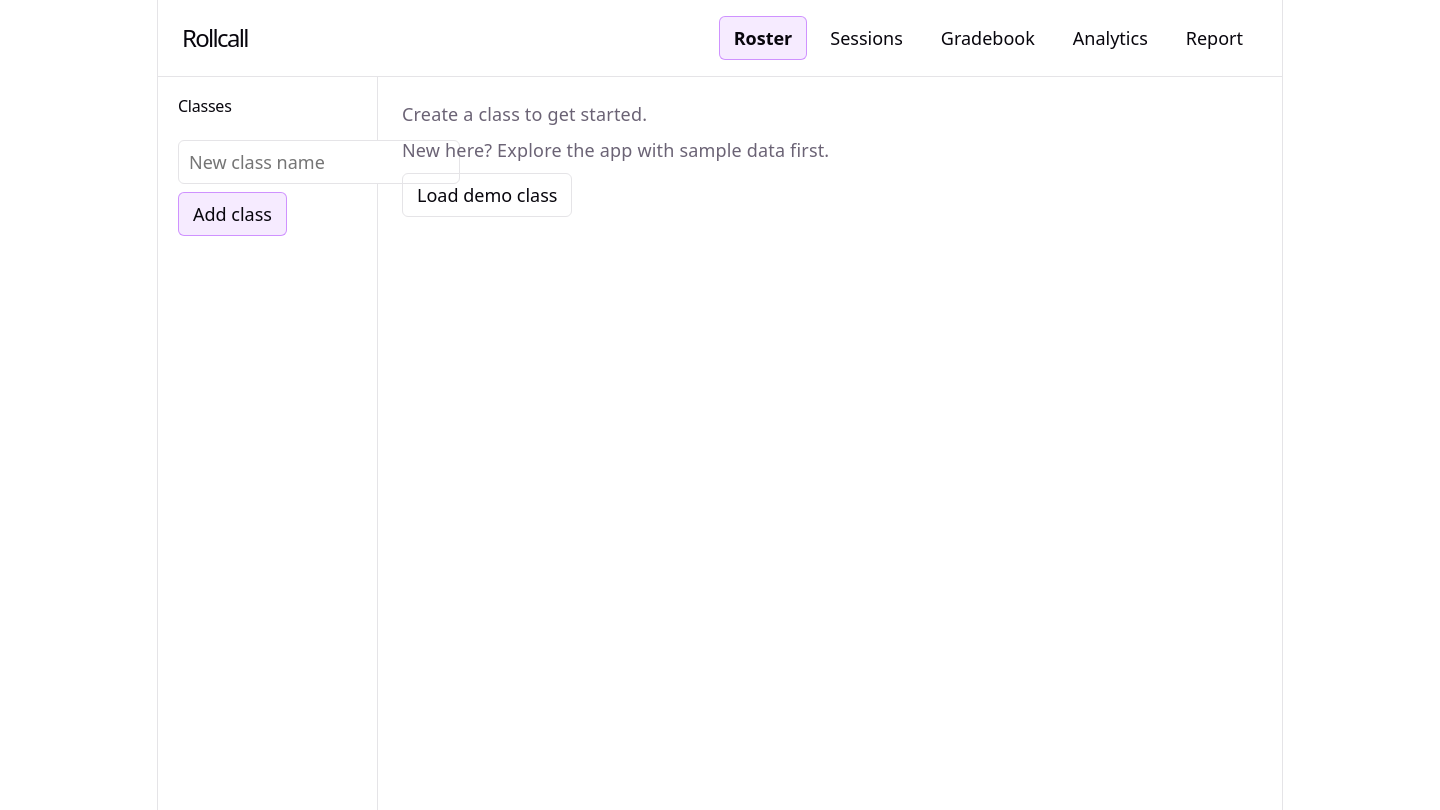
Scenario: App › adds a participant to the selected class
Type "Morning Cohort" into the field labelled "New class name" at (319, 162), box [178, 140, 460, 184]
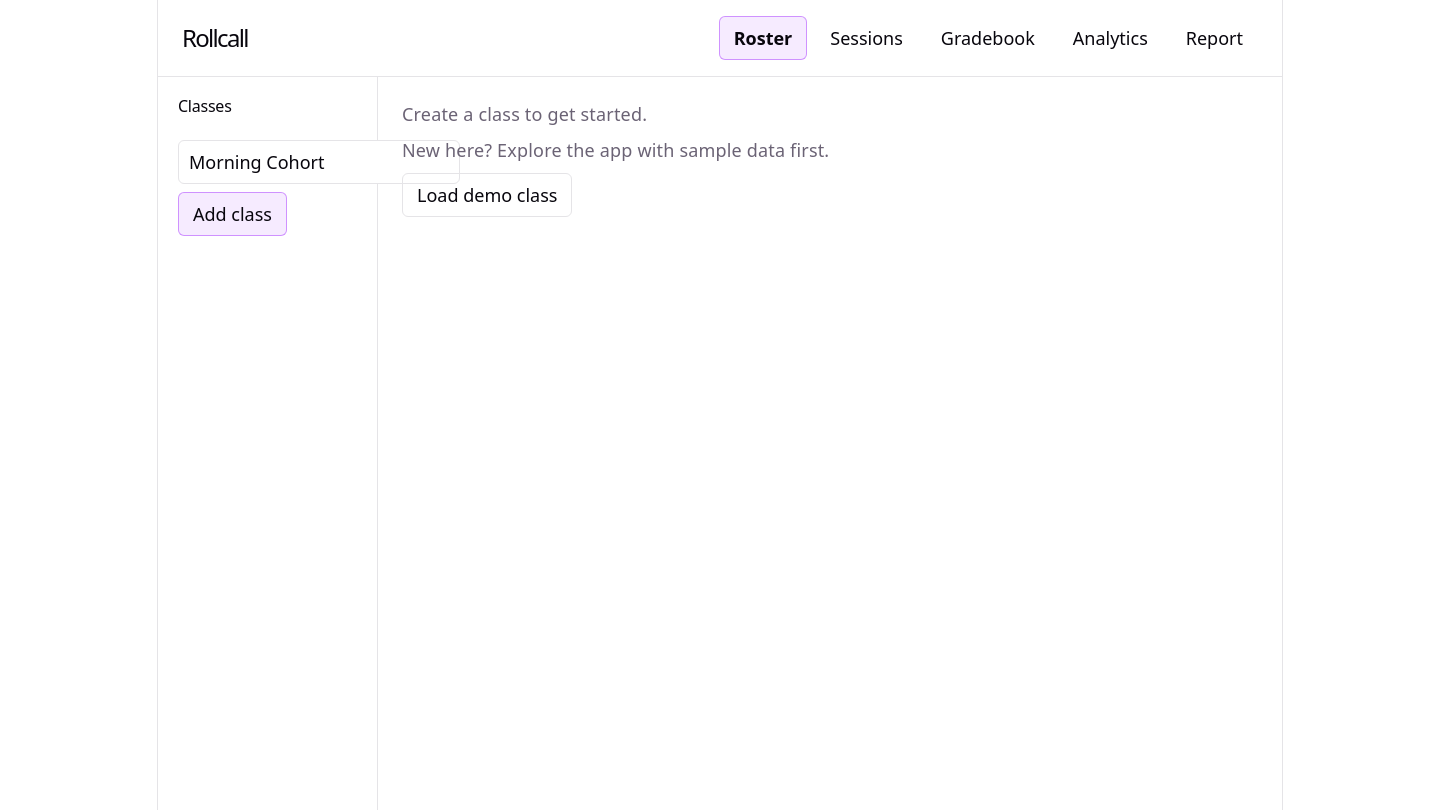
Click the button "Add class" at (232, 214), box [178, 192, 287, 236]
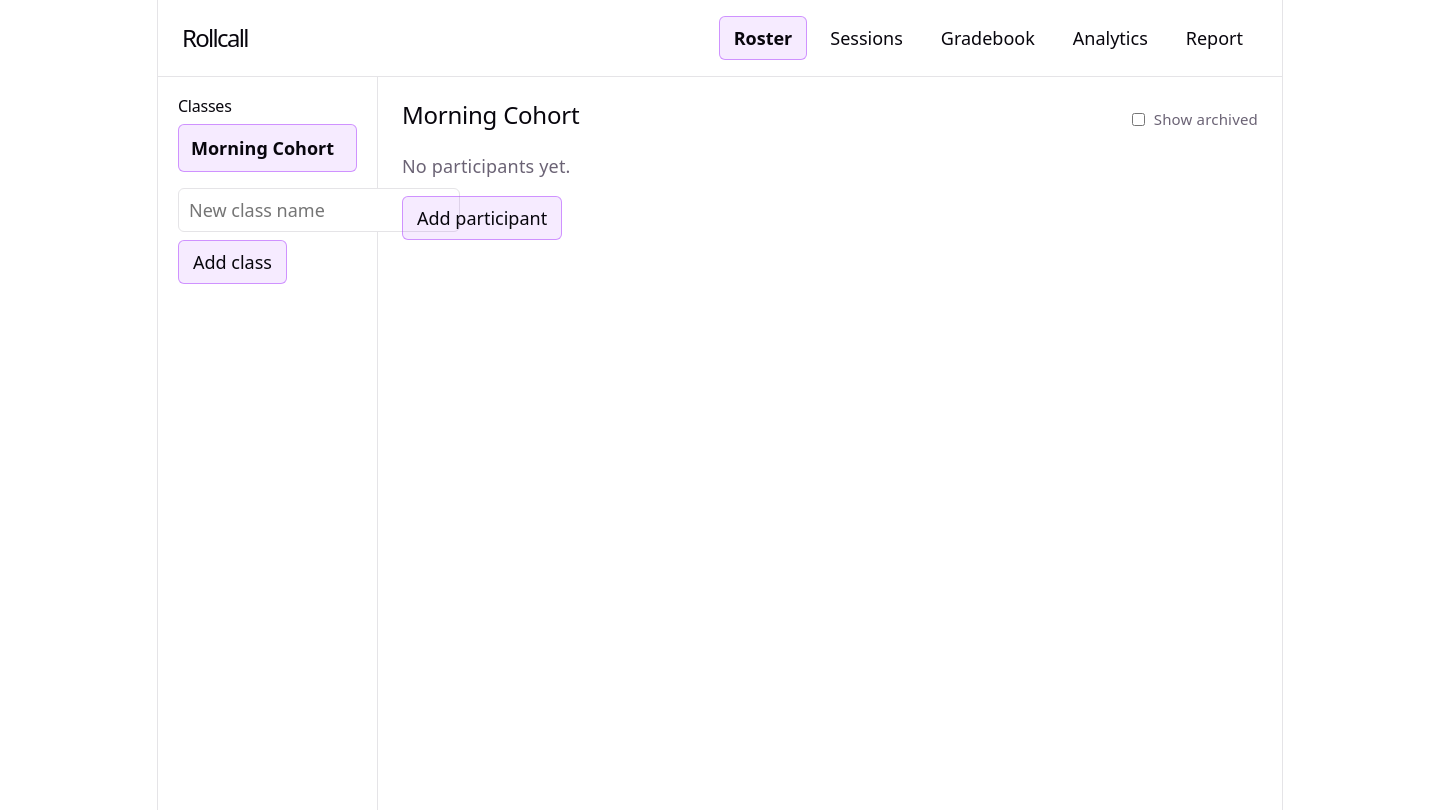
Click the button "Add participant" at (482, 218), box [402, 196, 562, 240]
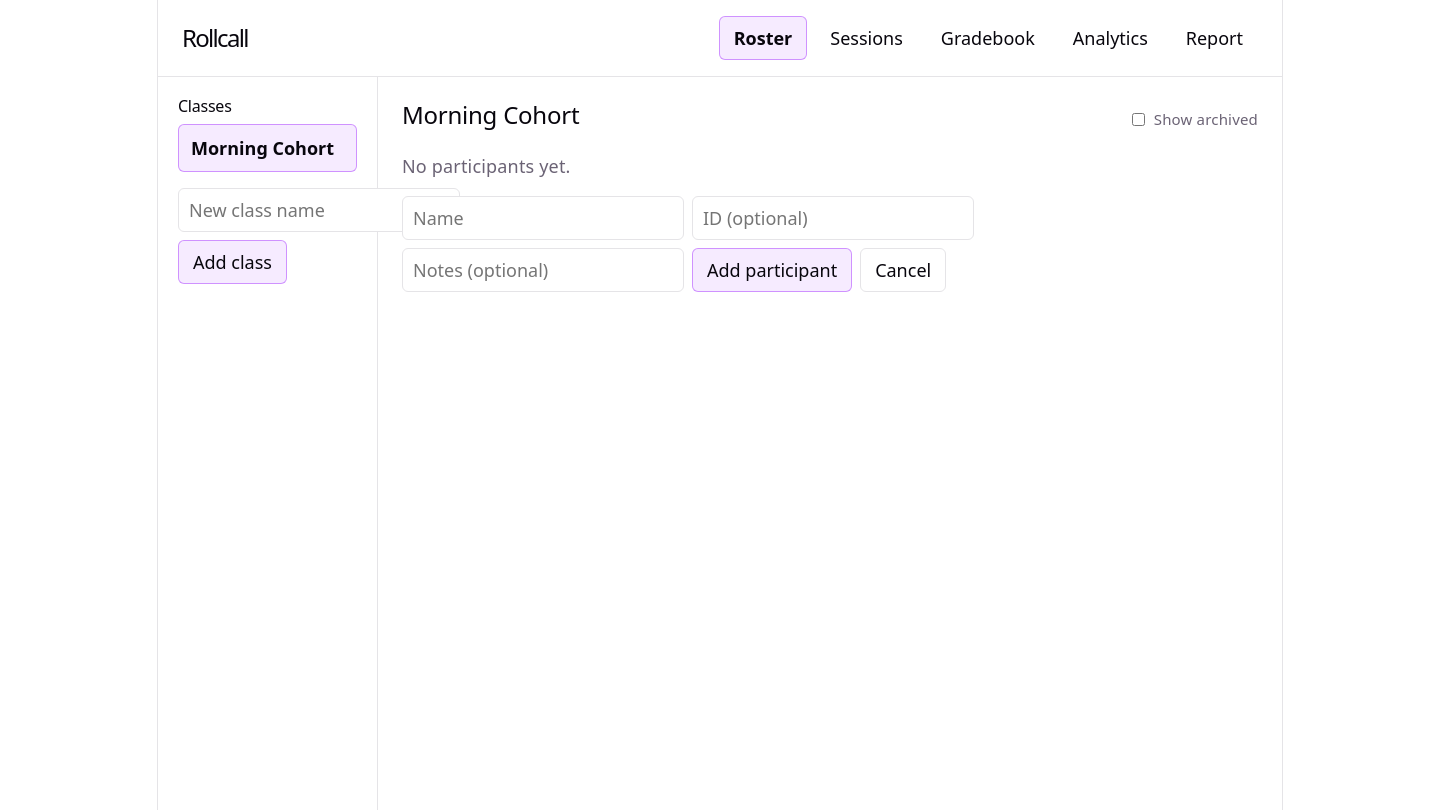
Type "Jane Doe" into the field named "Participant name" at (543, 218), box [402, 196, 684, 240]
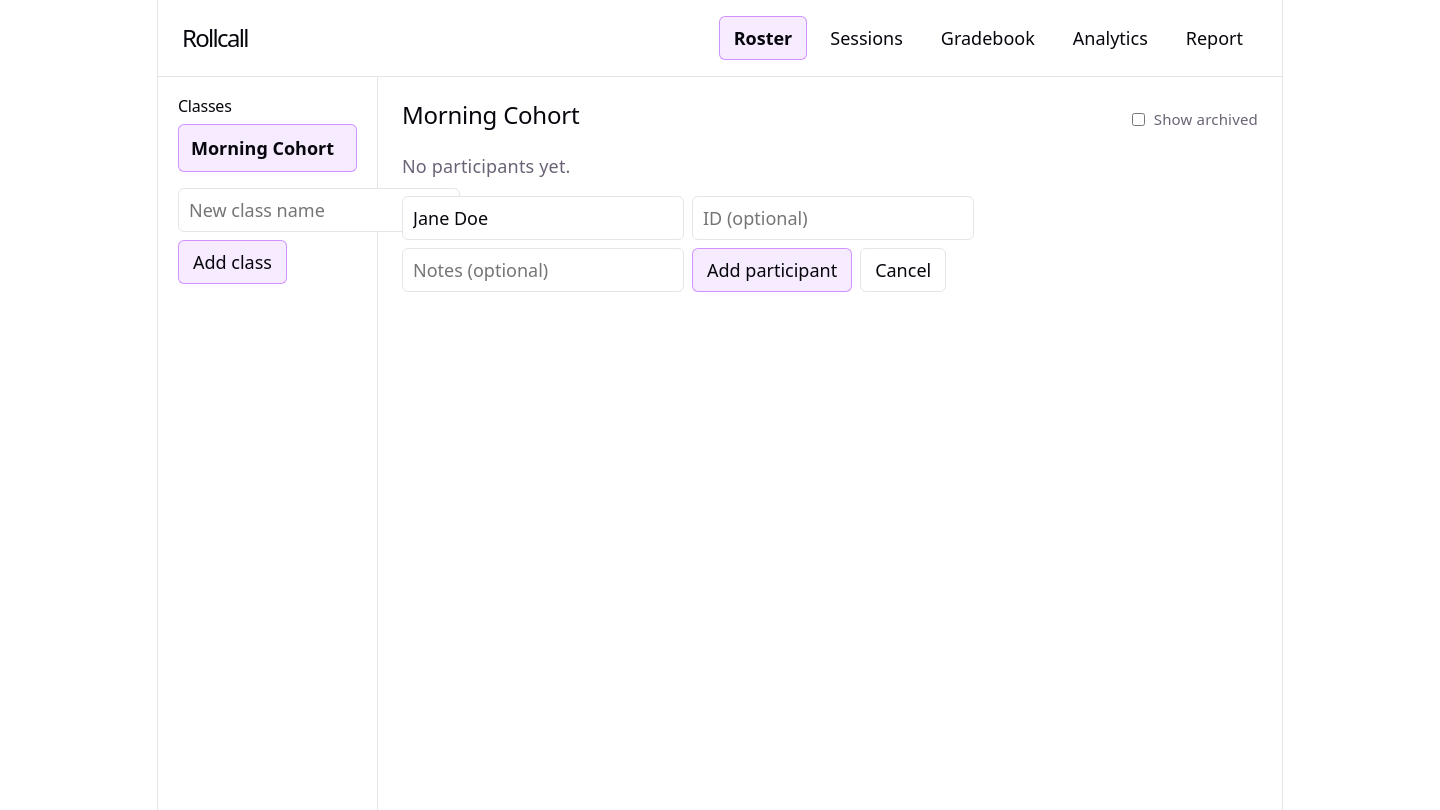
Click the button "Add participant" at (772, 270), box [692, 248, 852, 292]
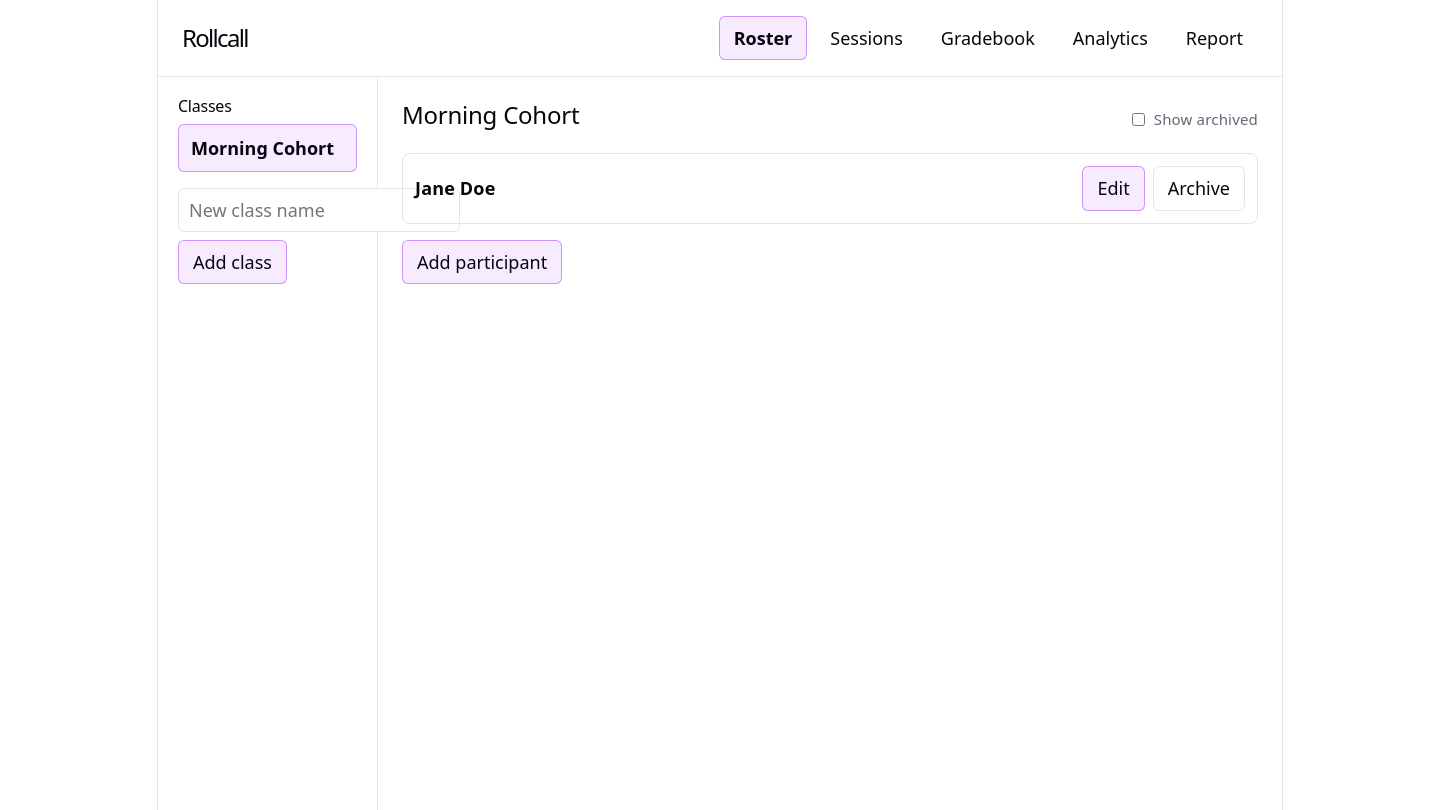
Check: the text "Jane Doe" is shown, box [415, 175, 496, 202]
